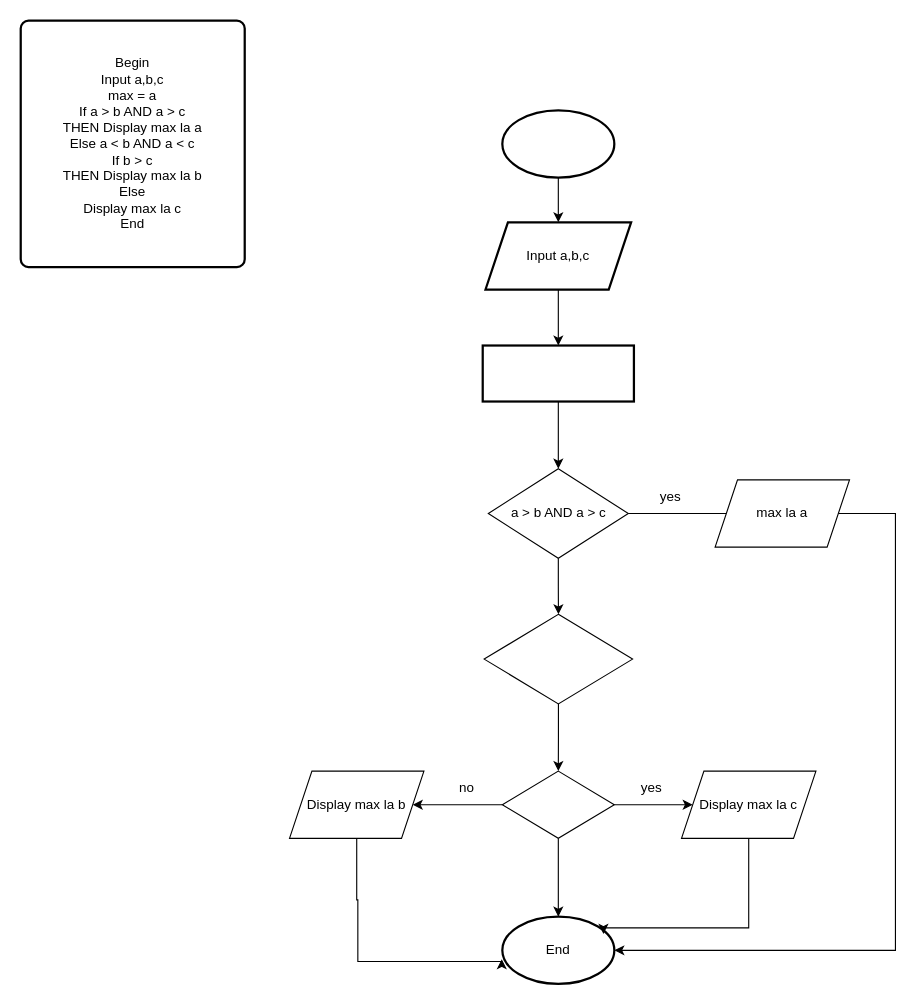
The diagram is 924 pixels wide and 1004 high, and some of its shapes have lost their labels. The centre of each missing label's shape, as x and y in pixels:
"a < b AND a < c" belongs at [558,658].
"b < c" belongs at [557,804].
"begin" belongs at [558,143].
"max = a" belongs at [557,373].
